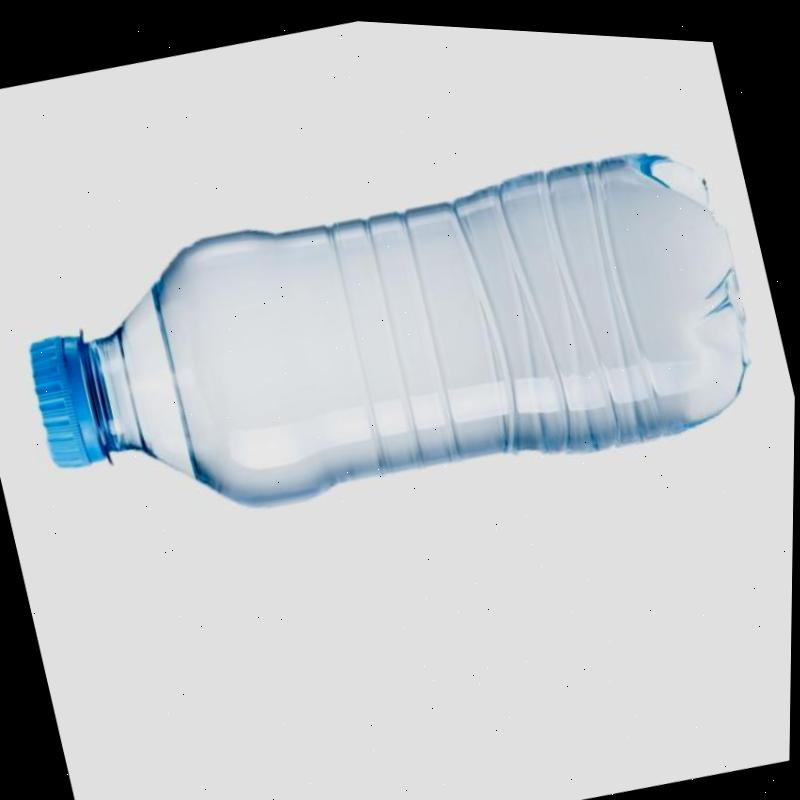botella: (0, 89, 770, 573)
